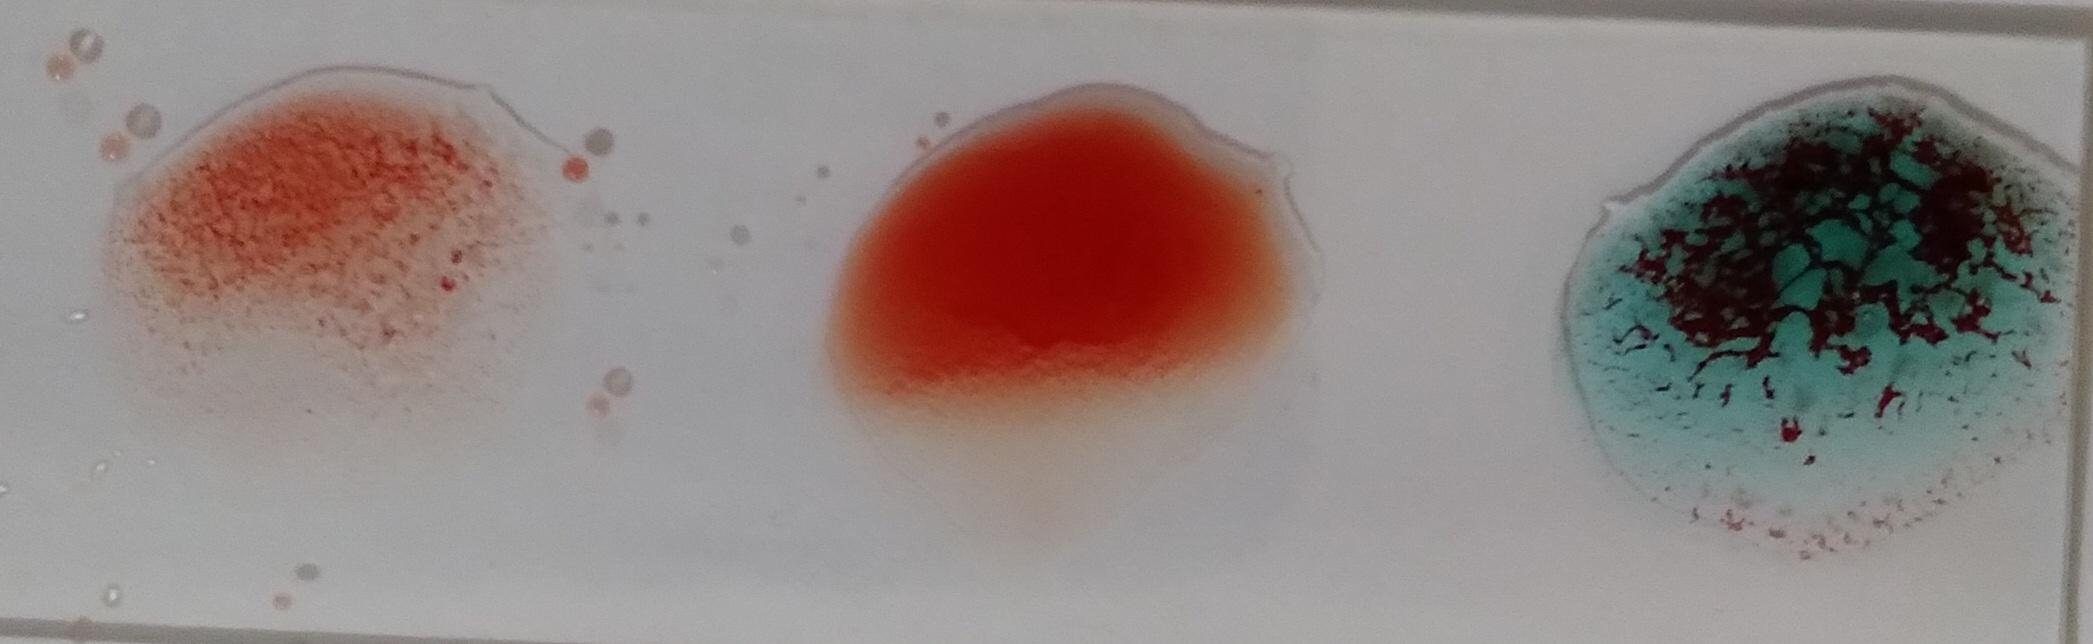A: (1532, 115, 2073, 554)
D: (131, 55, 531, 377)
